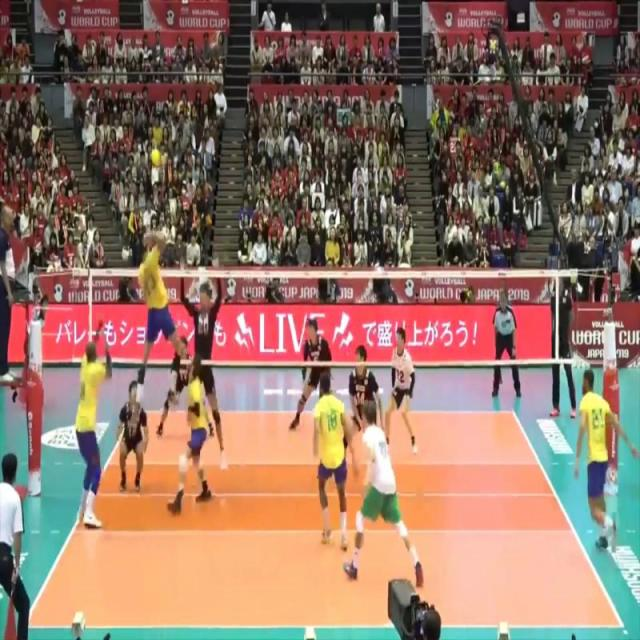volleyball: (148, 145, 164, 172)
